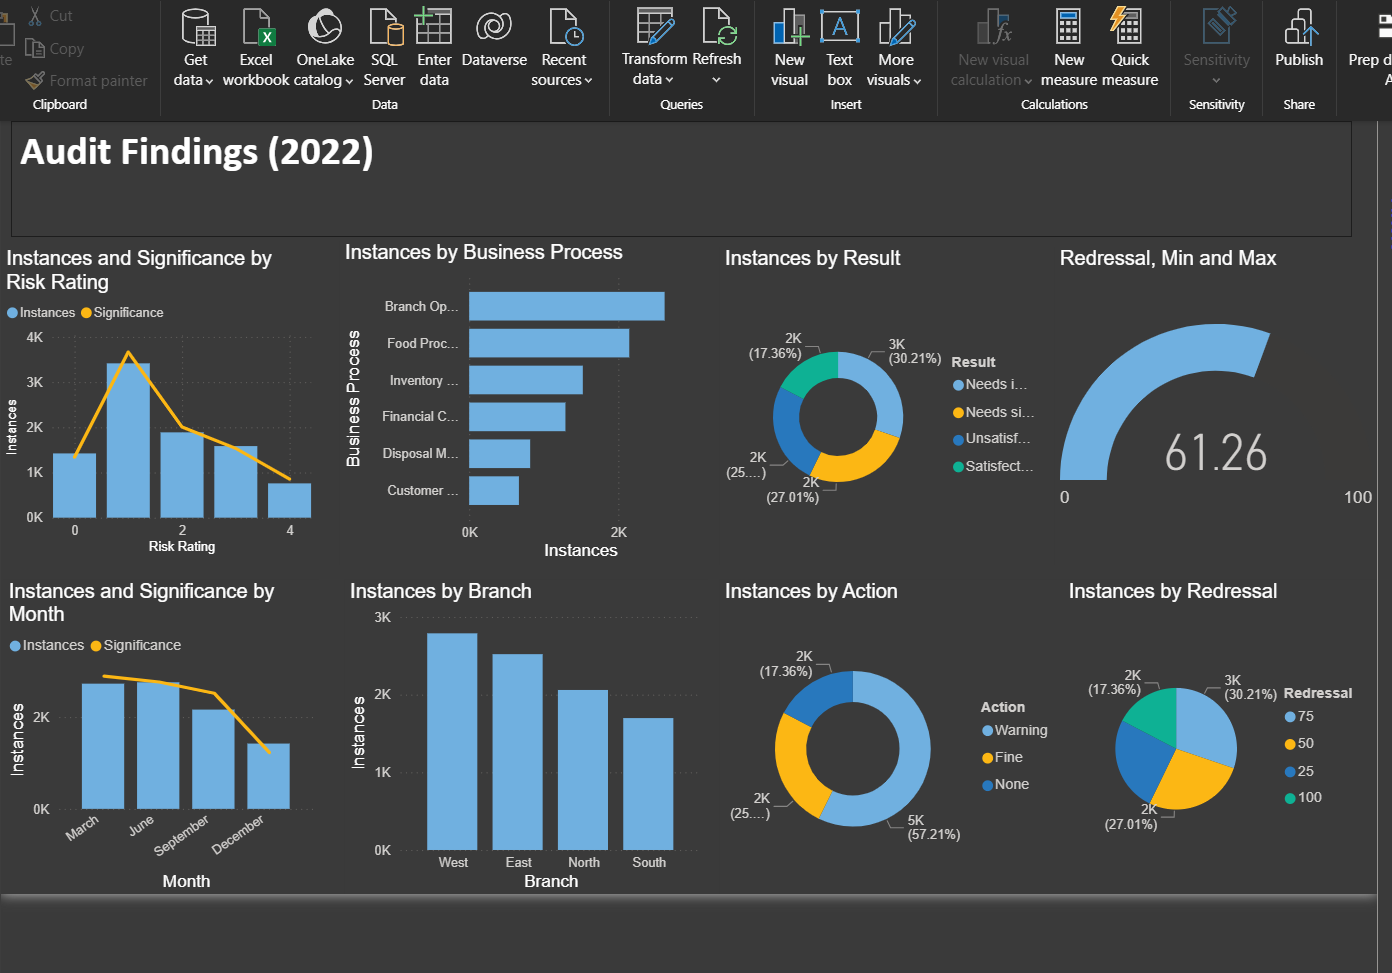

The dashboard page shown, as its layout file describes it:
{"tool":"powerbi","page":{"name":"Page 1","canvas":[1280,720],"ordinal":0},"visuals":[{"type":"textbox","box":[9.6,0,1247.3,108.4],"z":0},{"type":"lineStackedColumnComboChart","fields":{"Category":["Audit.Audit Period.Variation.Date Hierarchy.Month"],"Y":["Sum(Audit.Instances)"],"Y2":["Sum(Audit.Significance)"]},"box":[2.2,426.3,293.7,293.7],"z":1000},{"type":"columnChart","fields":{"Category":["Audit.Branch"],"Y":["Sum(Audit.Instances)"]},"box":[319.8,426.7,337.2,294.2],"z":2000},{"type":"donutChart","fields":{"Category":["Audit.Action"],"Y":["Sum(Audit.Instances)"]},"box":[668.3,426.8,320,294],"z":3000},{"type":"pieChart","fields":{"Category":["Audit.Redressal"],"Y":["Sum(Audit.Instances)"]},"box":[988,426.8,293,294],"z":4000},{"type":"lineStackedColumnComboChart","fields":{"Y":["Sum(Audit.Instances)"],"Y2":["Sum(Audit.Significance)"],"Category":["Audit.Risk Rating"]},"box":[0,117.2,293.7,290.4],"z":5000},{"type":"clusteredBarChart","fields":{"Category":["Audit.Busines Process"],"Y":["Sum(Audit.Instances)"]},"box":[315.6,111.1,341.7,301.9],"z":6000},{"type":"donutChart","fields":{"Y":["Sum(Audit.Instances)"],"Category":["Audit.Result"]},"box":[668.6,117.4,311.6,295.3],"z":7000},{"type":"gauge","fields":{"Y":["Avg(Audit.Redressal)"],"MinValue":["Audit.Min"],"MaxValue":["Audit.Max"]},"box":[979.8,118,300.5,295],"z":8000}]}

Visuals, with their boxes on the page's 1280x720 design canvas (x1, y1, x2, y2). These are canvas units, not pixel positions in the 1392x973 screenshot, which may show the page scaled, cropped or inside an application window:
textbox: (10,0,1257,108)
lineStackedColumnComboChart - Audit.Audit Period.Variation.Date Hierarchy.Month x Sum(Audit.Instances): (2,426,296,720)
columnChart - Audit.Branch x Sum(Audit.Instances): (320,427,657,721)
donutChart - Audit.Action x Sum(Audit.Instances): (668,427,988,721)
pieChart - Audit.Redressal x Sum(Audit.Instances): (988,427,1281,721)
lineStackedColumnComboChart - Sum(Audit.Instances) x Sum(Audit.Significance): (0,117,294,408)
clusteredBarChart - Audit.Busines Process x Sum(Audit.Instances): (316,111,657,413)
donutChart - Sum(Audit.Instances) x Audit.Result: (669,117,980,413)
gauge - Avg(Audit.Redressal) x Audit.Min: (980,118,1280,413)
